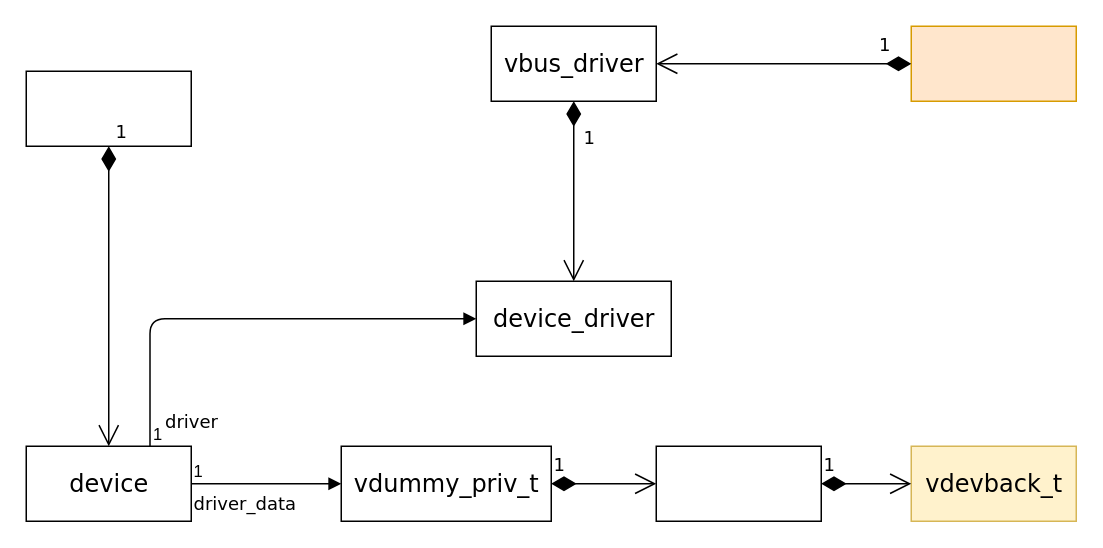
Some shapes in this 1103 by 548 pixel diagram are drawn without their labels. Each missing label, with the centre of its shape:
vbus_device: pixel 108 108
vdrvback_t: pixel 993 63
vdummy_t: pixel 738 483
